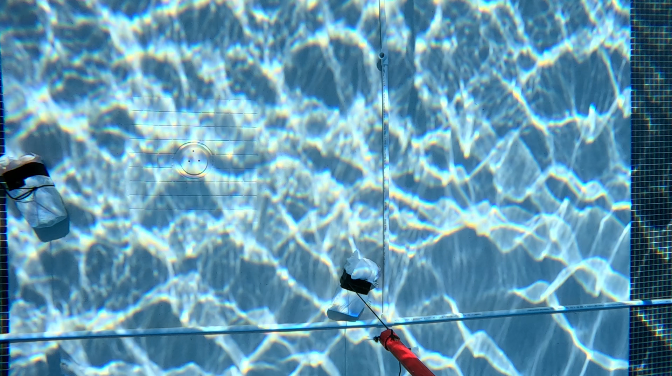sandbag: (0, 153, 64, 227), (330, 252, 379, 315)
